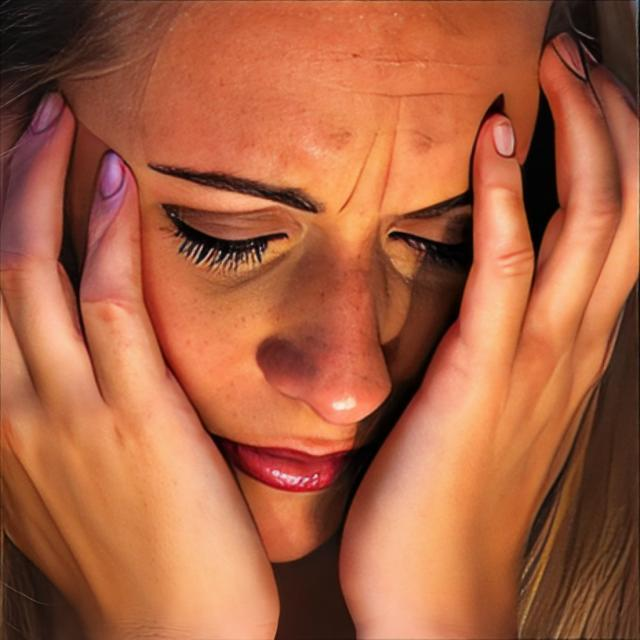sad: (65, 0, 552, 564)
